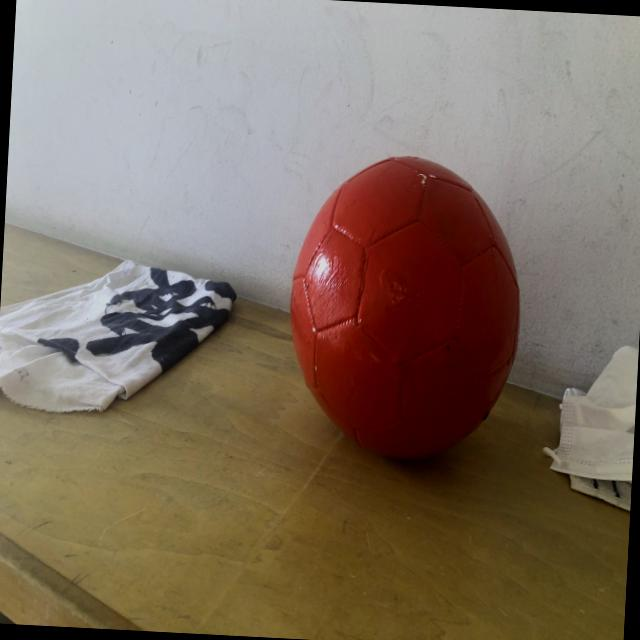red_ball: (282, 152, 528, 470)
